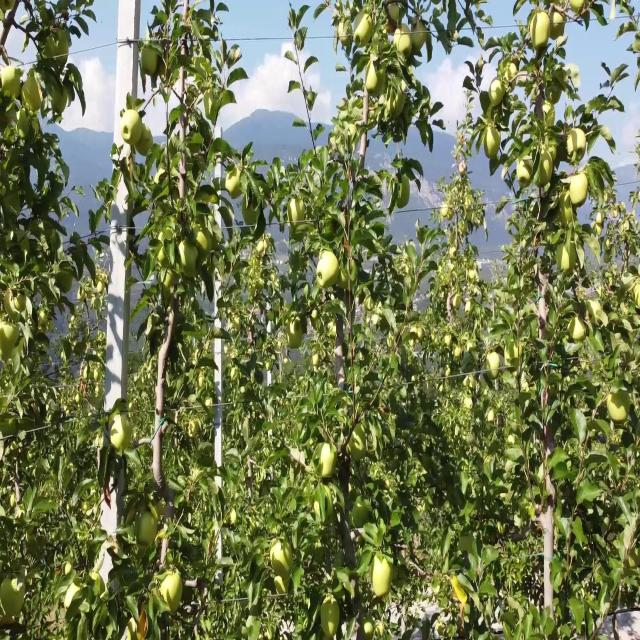apple: (160, 568, 184, 613), (372, 554, 392, 597), (320, 248, 340, 290), (112, 412, 132, 453), (136, 511, 157, 548), (568, 127, 588, 164), (608, 391, 631, 423), (316, 447, 337, 482), (528, 14, 548, 50), (24, 78, 44, 114), (0, 327, 20, 363), (4, 583, 25, 617), (356, 14, 375, 50), (4, 63, 22, 101), (272, 540, 293, 572), (4, 291, 27, 320), (368, 63, 388, 96), (572, 170, 589, 208), (324, 597, 340, 636), (124, 113, 141, 149), (180, 241, 197, 277), (52, 85, 71, 116), (560, 241, 576, 276), (520, 149, 533, 192), (548, 14, 567, 43), (0, 334, 19, 363), (396, 28, 412, 62), (4, 319, 20, 352), (484, 127, 501, 158), (568, 312, 586, 341), (540, 149, 554, 185), (136, 127, 153, 156), (348, 433, 365, 462), (412, 21, 427, 53), (516, 163, 532, 192), (396, 184, 412, 212), (288, 199, 307, 222), (144, 49, 159, 78), (228, 170, 243, 199), (244, 199, 259, 228), (337, 263, 352, 292), (352, 504, 370, 528), (452, 575, 467, 603), (164, 270, 179, 297), (588, 298, 603, 324), (392, 92, 405, 121), (340, 21, 353, 50), (288, 319, 304, 341), (60, 270, 74, 295), (492, 78, 504, 107), (96, 568, 107, 599), (276, 575, 292, 596), (288, 327, 304, 348), (136, 611, 148, 639), (292, 220, 307, 242), (152, 497, 165, 521), (488, 355, 500, 380), (560, 206, 573, 229), (160, 241, 170, 270), (388, 7, 401, 28), (196, 227, 208, 249), (548, 227, 561, 247), (548, 142, 559, 165), (340, 270, 351, 293), (356, 56, 370, 73), (560, 191, 572, 210), (208, 234, 219, 254), (36, 312, 47, 332), (480, 92, 491, 112), (204, 234, 216, 252), (508, 63, 518, 84), (256, 241, 267, 260), (200, 248, 210, 268), (552, 85, 561, 107), (388, 21, 399, 36), (468, 270, 479, 284), (328, 319, 336, 338), (472, 213, 482, 228), (456, 291, 464, 309), (364, 625, 374, 639), (40, 312, 48, 329), (440, 207, 450, 220), (444, 334, 452, 350), (460, 220, 468, 236), (312, 355, 320, 370), (128, 511, 136, 526), (596, 213, 604, 228), (604, 248, 612, 263), (468, 376, 476, 391), (376, 625, 384, 639), (368, 298, 375, 313), (48, 319, 55, 334), (636, 284, 640, 309), (456, 348, 463, 361), (468, 206, 473, 222), (464, 199, 472, 208), (468, 305, 473, 318), (68, 561, 72, 574), (597, 229, 601, 235)
